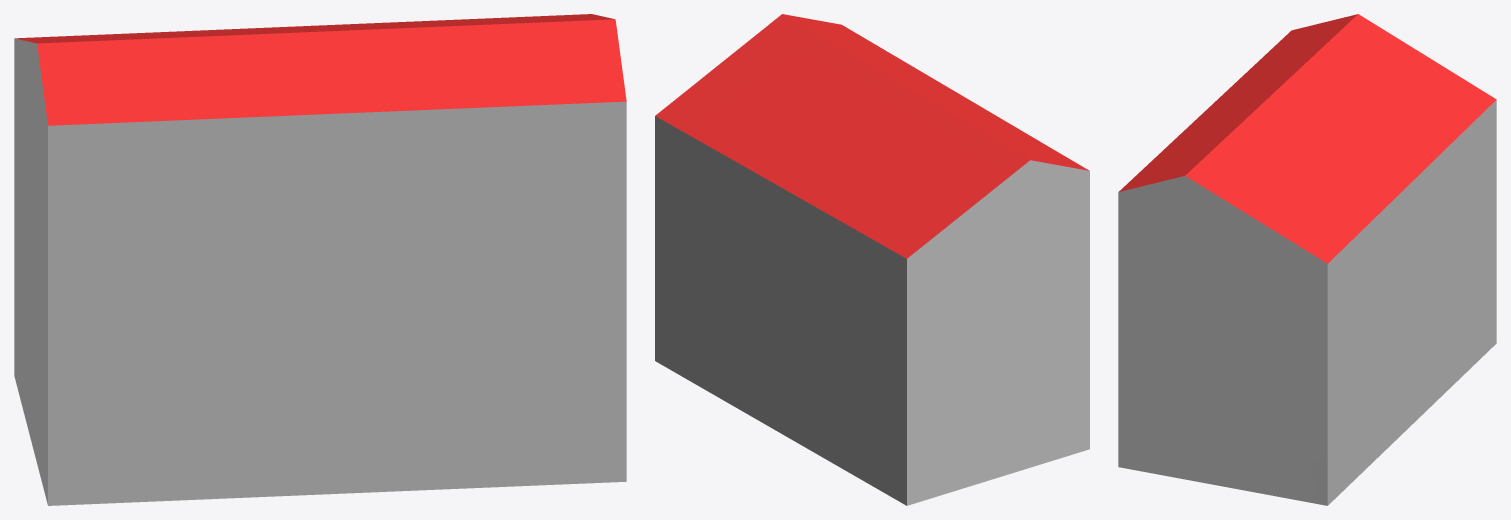
File: DEBY_LOD2_4959322.dae
3 views of the same model, side by side, from view 1: azimuth 30°, elevation 25°; view 2: azimuth 150°, elevation 25°; view 3: azimuth 270°, elevation 25° (orthographic). The views are drawn at different scales.
Size of the model in its own units: 30.47 by 24.28 by 21.5.
